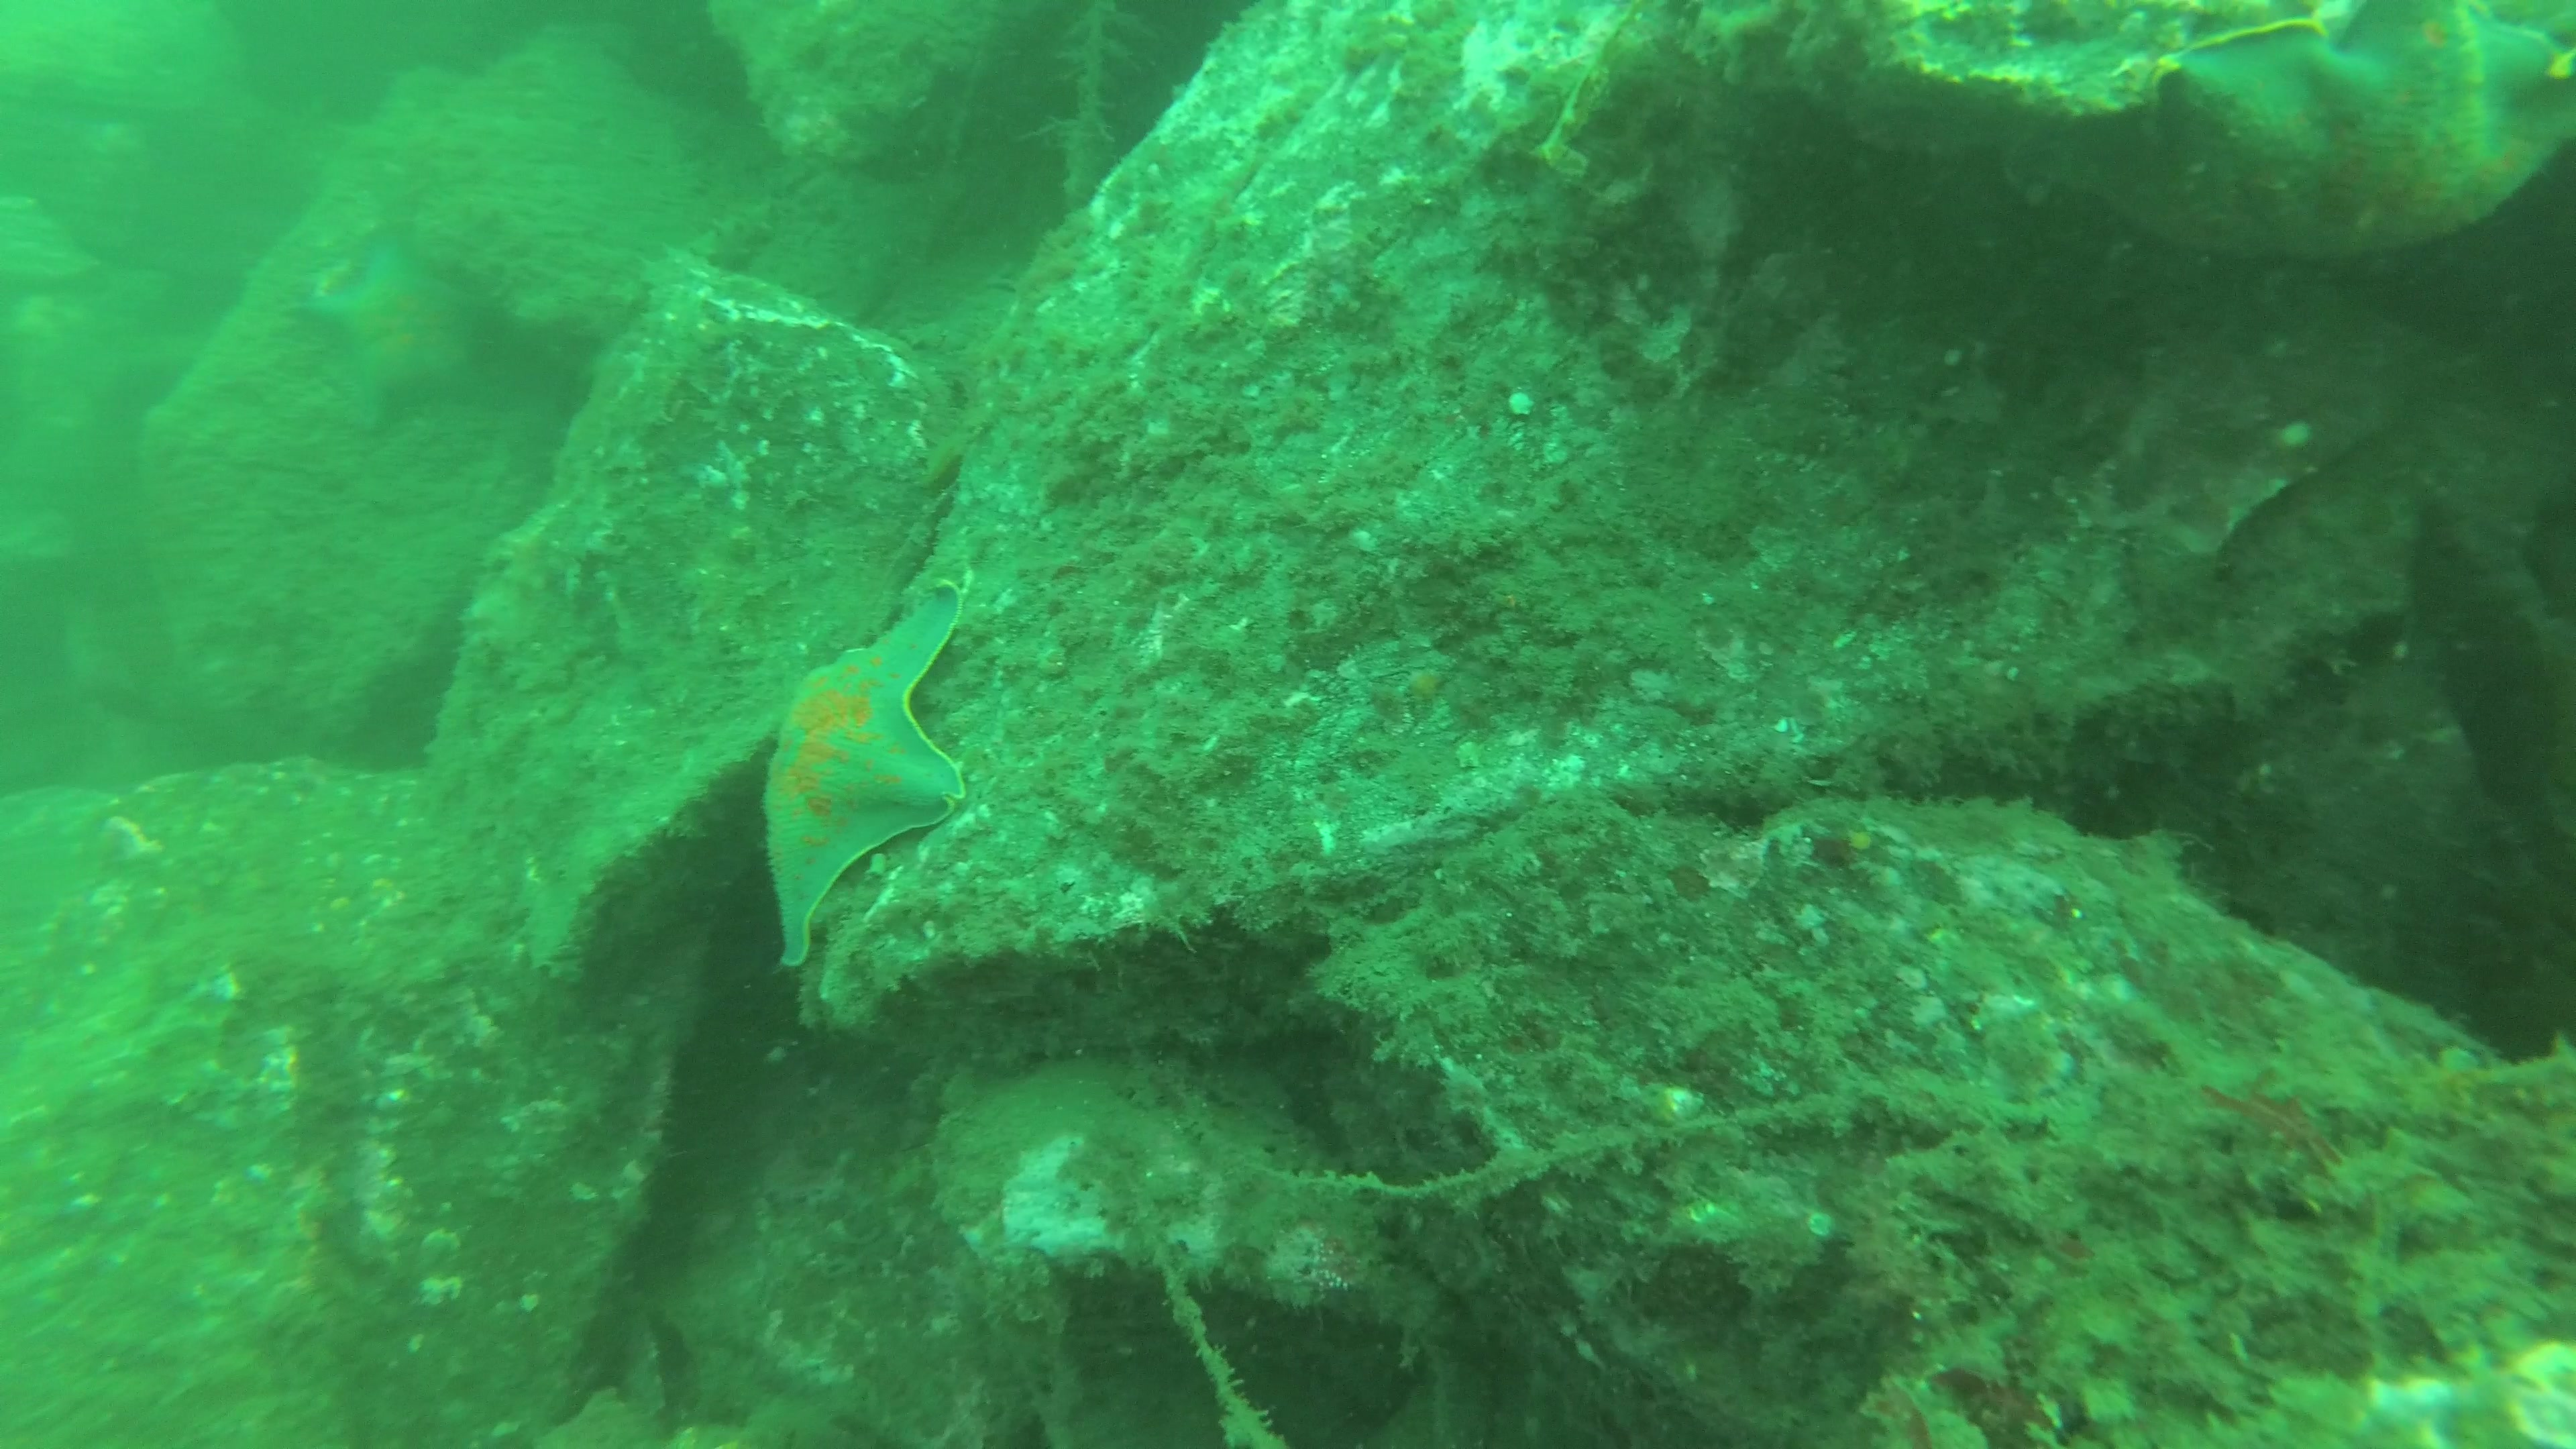holothurian: (639, 202, 777, 292)
starfish: (764, 571, 973, 966), (285, 248, 504, 439)
